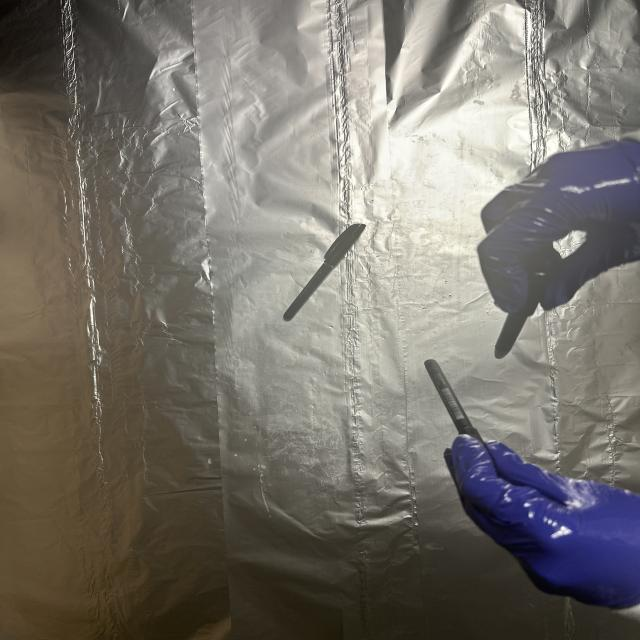gloves_contaminated: (444, 436, 640, 614), (478, 138, 640, 313)
